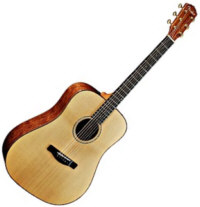guitar: (1, 2, 198, 207)
